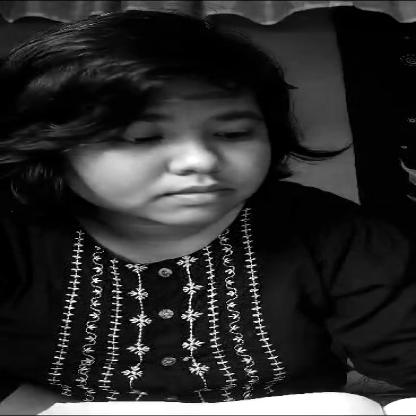Distracted: (18, 32, 300, 234)
